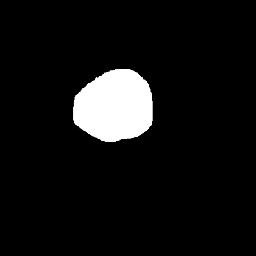mass: (74, 66, 171, 142)
